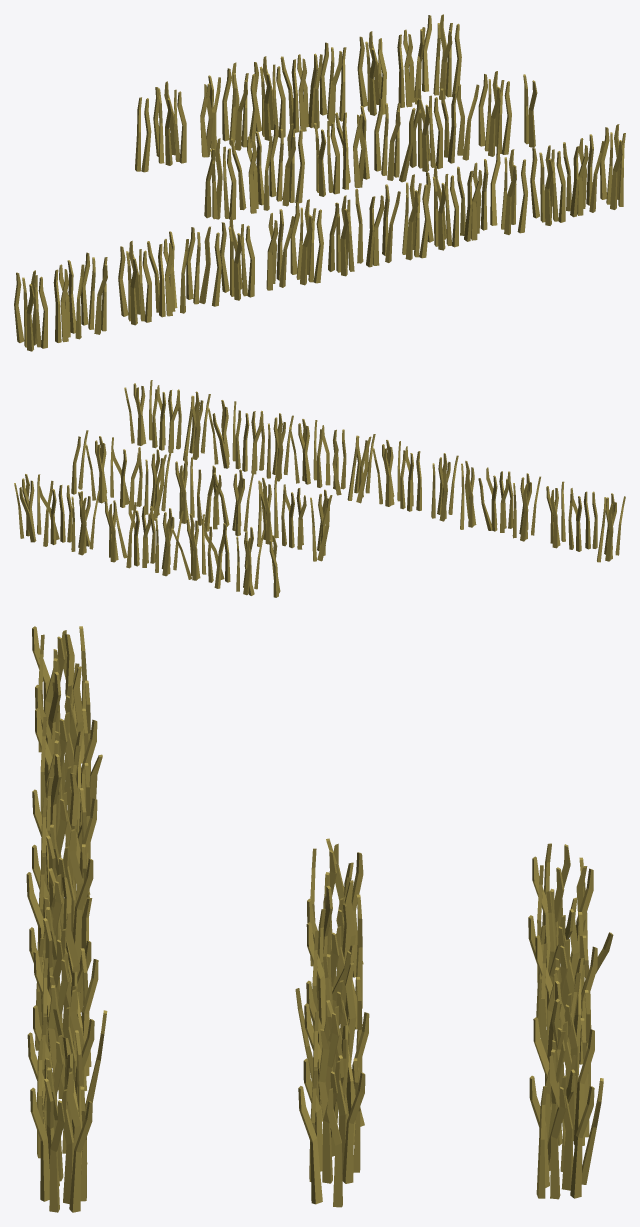
File: Farm_SecondAge_Level1_Wheat.glb
3 views of the same model, one above another, from view 1: azimuth 30°, elevation 25°; view 2: azimuth 150°, elevation 25°; view 3: azimuth 270°, elevation 25° (orthographic). The views are drawn at different scales.
Visible parts, largest first — view 1: Farm_SecondAge_Level1_Wheat; view 2: Farm_SecondAge_Level1_Wheat; view 3: Farm_SecondAge_Level1_Wheat.
Part boxes in pixels (left/top/right/bottom): Farm_SecondAge_Level1_Wheat: left=14, top=14, right=625, bottom=351; Farm_SecondAge_Level1_Wheat: left=14, top=380, right=625, bottom=597; Farm_SecondAge_Level1_Wheat: left=26, top=626, right=613, bottom=1212.
Bounding box in the file's own units: 1.48 × 0.186 × 0.7686.
